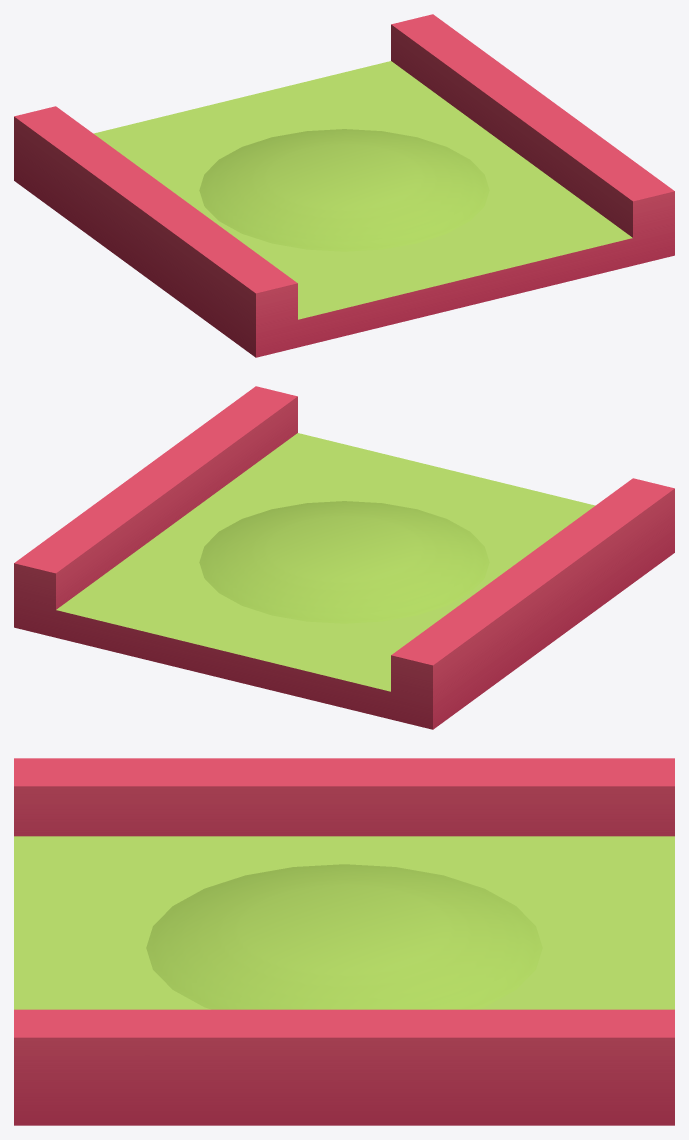
The model's file is bump-walls.gltf.
The picture shows the model from 3 angles, top to bottom: view 1: azimuth 30°, elevation 25°; view 2: azimuth 150°, elevation 25°; view 3: azimuth 270°, elevation 25°; orthographic projection. The views are drawn at different scales.
Visible parts, largest first — view 1: bump-walls; view 2: bump-walls; view 3: bump-walls.
Part boxes in pixels (x1=…): bump-walls: x1=14, y1=14, x2=674, y2=357; bump-walls: x1=14, y1=386, x2=674, y2=729; bump-walls: x1=14, y1=758, x2=674, y2=1125.
Bounding box in the file's own units: 0.9999 × 0.1467 × 0.9999.
Materials: 1 (1 with a texture image).
